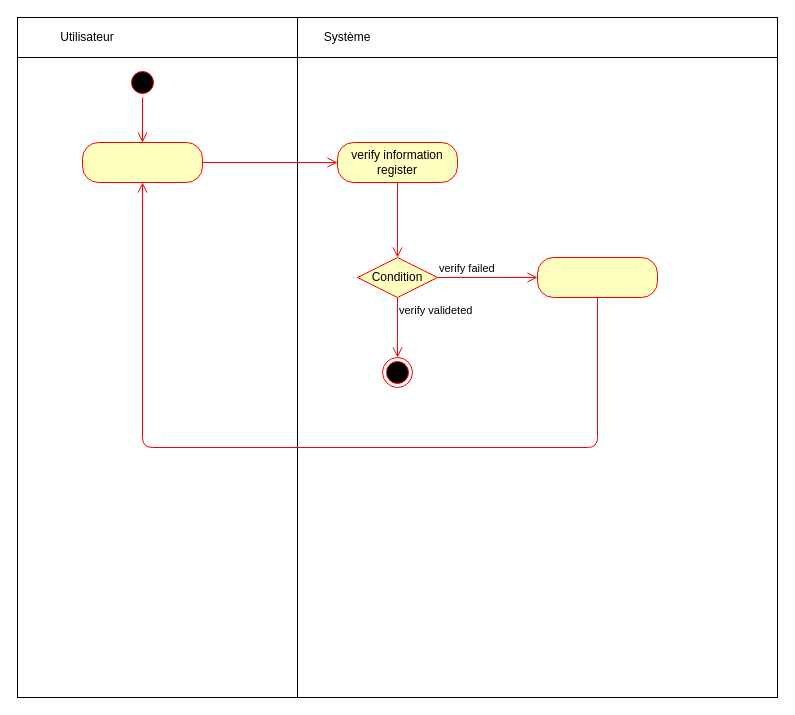
Some shapes in this 795 by 715 pixel diagram are drawn without their labels. Each missing label, with the centre of its shape:
name, surname, email, password erreur: (x=597, y=277)
register name, surname, email, password: (x=142, y=162)
